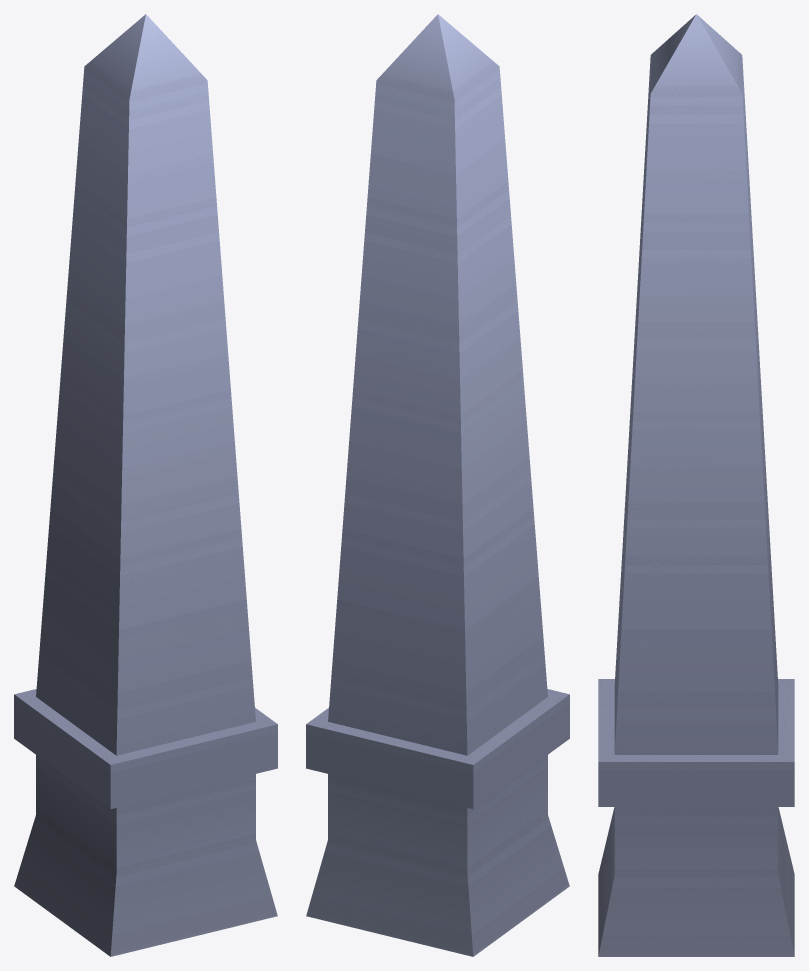
The model's file is pillar-obelisk.glb.
3 renders of one model, left to right at view 1: azimuth 30°, elevation 25°; view 2: azimuth 150°, elevation 25°; view 3: azimuth 270°, elevation 25°, orthographic.
Visible parts, largest first — view 1: pillar-obelisk; view 2: pillar-obelisk; view 3: pillar-obelisk.
Boxes of the visible parts, x1=… form: pillar-obelisk: x1=14, y1=14, x2=277, y2=956; pillar-obelisk: x1=306, y1=14, x2=569, y2=956; pillar-obelisk: x1=598, y1=14, x2=794, y2=956.
Bounding box in the file's own units: 0.6186 × 3.14 × 0.6186.
1 material, 1 textured.
